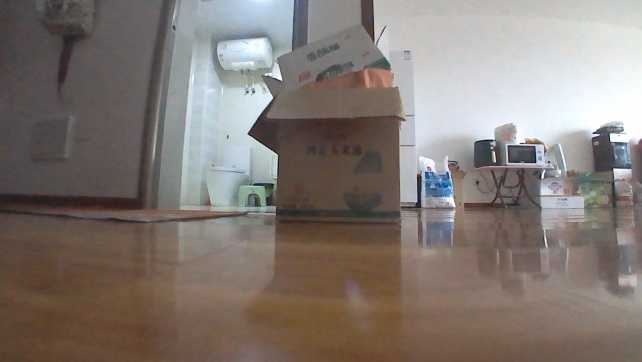blanket: (0, 201, 251, 225)
plastic_stool: (236, 184, 270, 207)
toilet: (203, 145, 251, 208)
